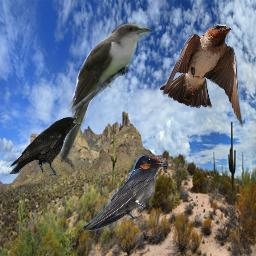Crow: (8, 115, 82, 179)
Cuckoo: (56, 21, 153, 166)
Swallow: (160, 24, 243, 128), (82, 155, 168, 231)
